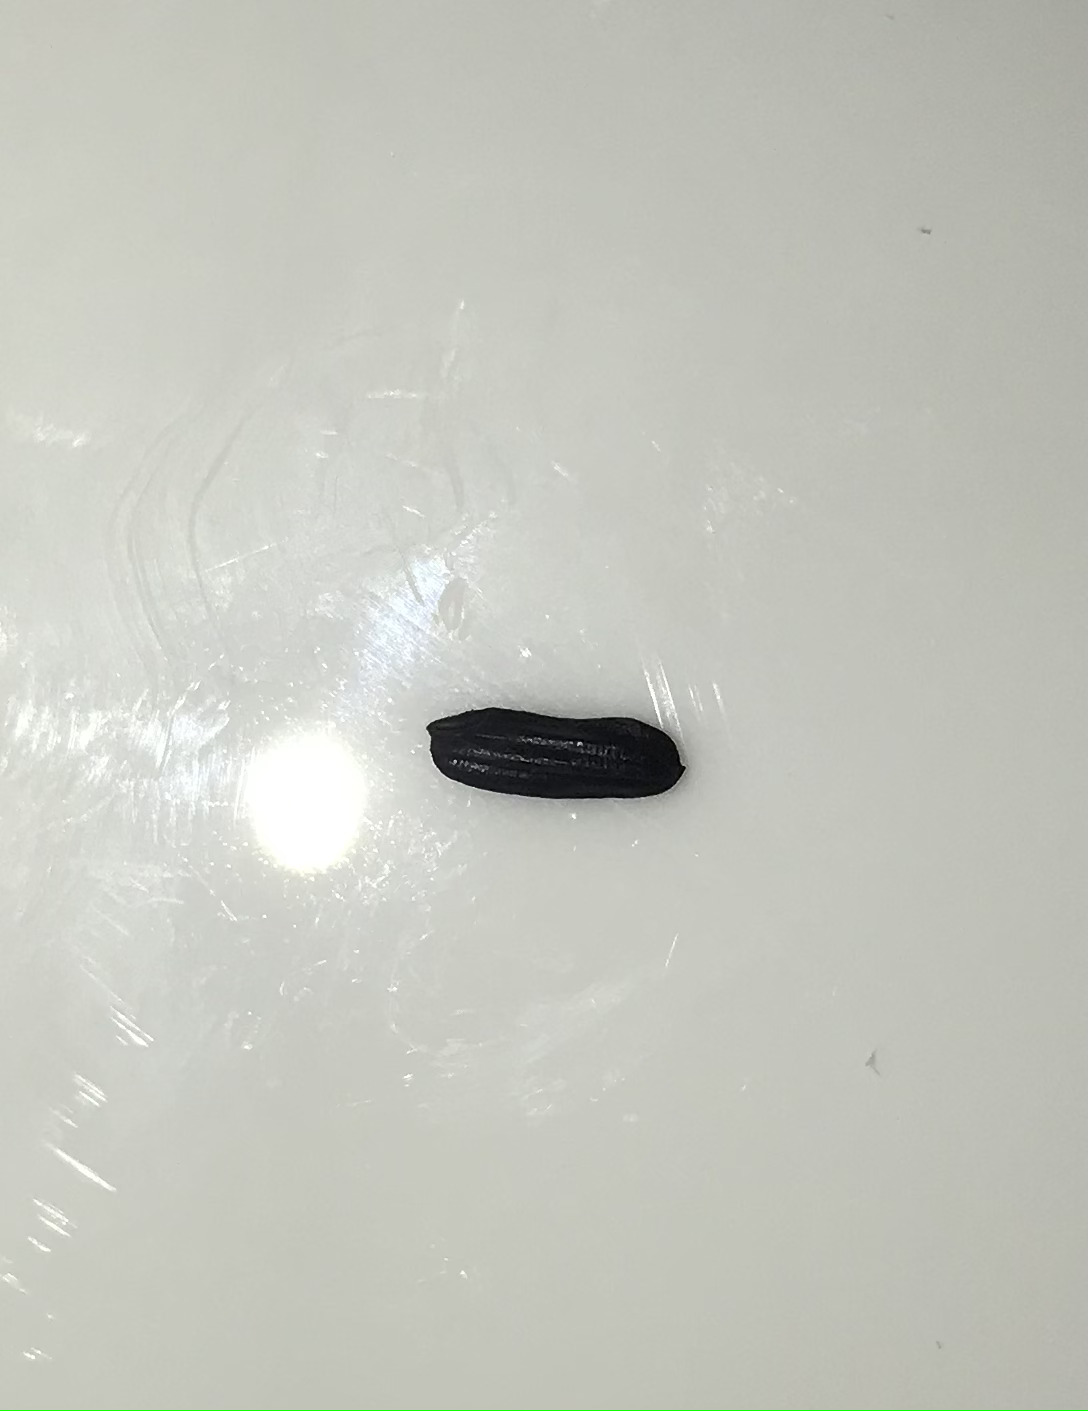Gao lut: (426, 703, 693, 805)
